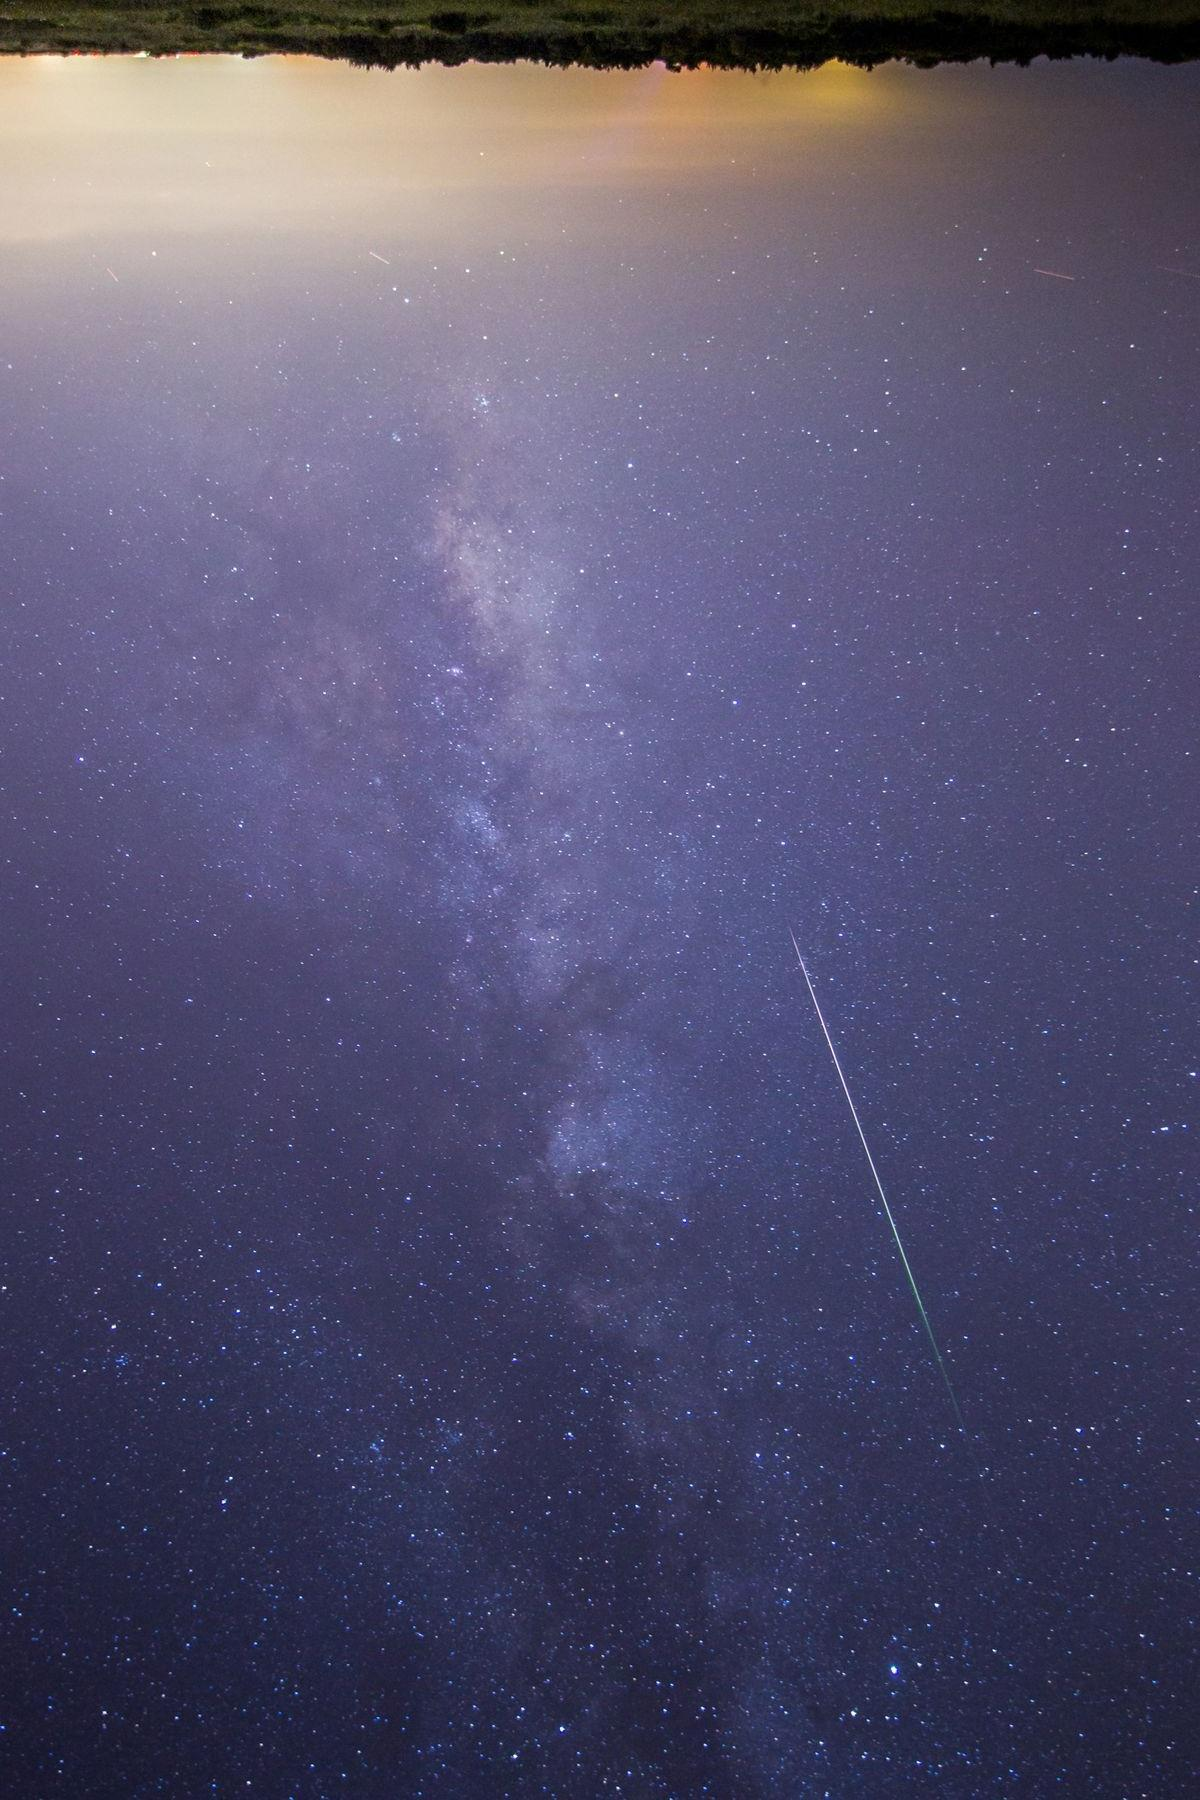meteorite: (767, 896, 960, 1386), (998, 224, 1104, 309)
